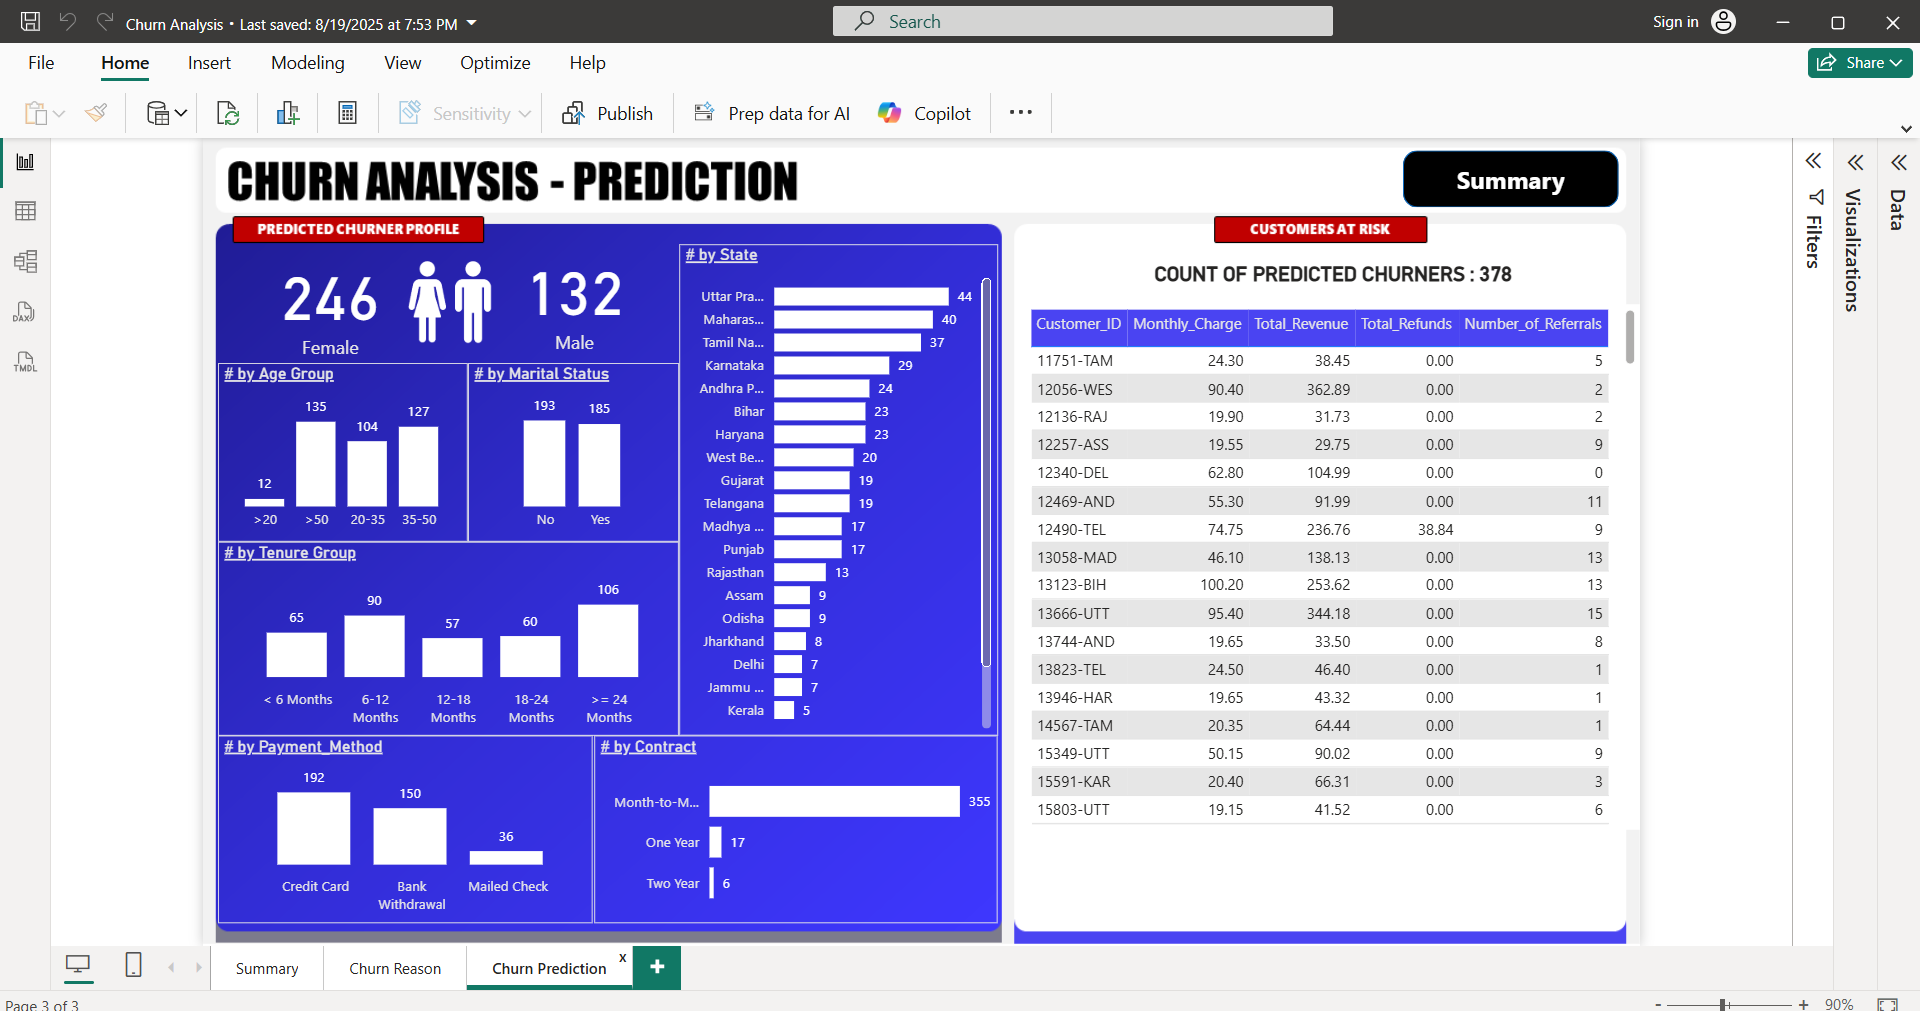

The page's visual inventory and layout, read from the dashboard file:
{"tool":"powerbi","page":{"name":"Churn Prediction","canvas":[1280,720],"ordinal":2},"visuals":[{"type":"tableEx","fields":{"Values":["Predictions.Customer_ID","Predictions.Monthly_Charge","Predictions.Total_Revenue","Predictions.Total_Refunds","Predictions.Number_of_Referrals"]},"box":[731.4,148.2,548.9,467.9],"z":0},{"type":"card","fields":{"Values":["tbl_Measures.Title Predicted Churners"]},"box":[830.2,94.7,352.7,53.5],"z":1000},{"type":"card","fields":{"Values":["tbl_Measures.Count Predicted Churner"]},"box":[45.3,94.7,135.8,105.7],"z":2000},{"type":"card","fields":{"Values":["tbl_Measures.Count Predicted Churner"]},"box":[258,90.6,145.5,105.7],"z":3000},{"type":"clusteredColumnChart","fields":{"Category":["mapping_AgeGrp.Age Group"],"Y":["CountNonNull(Predictions.Customer_ID)"]},"box":[13.7,200.3,222.3,159.2],"z":4000},{"type":"clusteredColumnChart","fields":{"Category":["Predictions.Married"],"Y":["CountNonNull(Predictions.Customer_ID)"]},"box":[236,200.3,188,159.2],"z":5000},{"type":"clusteredColumnChart","fields":{"Category":["mapping_TenureGrp.Tenure Group"],"Y":["CountNonNull(Predictions.Customer_ID)"]},"box":[13.7,359.5,410.3,172.9],"z":6000},{"type":"clusteredColumnChart","fields":{"Category":["Predictions.Payment_Method"],"Y":["CountNonNull(Predictions.Customer_ID)"]},"box":[13.7,532.4,333.4,167.4],"z":7000},{"type":"clusteredBarChart","fields":{"Category":["Predictions.Contract"],"Y":["CountNonNull(Predictions.Customer_ID)"]},"box":[348.5,532.4,359.5,167.4],"z":8000},{"type":"clusteredBarChart","fields":{"Category":["Predictions.State"],"Y":["CountNonNull(Predictions.Customer_ID)"]},"box":[424,94.7,284,437.7],"z":9000},{"type":"image","box":[168.1,94.7,102.9,101.5],"z":9001},{"type":"shape","box":[1069,11,192.1,50.8],"z":9002}]}

Visuals, with their boxes on the page's 1280x720 design canvas (x1, y1, x2, y2). These are canvas units, not pixel positions in the 1920x1011 screenshot, which may show the page scaled, cropped or inside an application window:
tableEx - Predictions.Customer_ID x Predictions.Monthly_Charge: (x1=731, y1=148, x2=1280, y2=616)
card - tbl_Measures.Title Predicted Churners: (x1=830, y1=95, x2=1183, y2=148)
card - tbl_Measures.Count Predicted Churner: (x1=45, y1=95, x2=181, y2=200)
card - tbl_Measures.Count Predicted Churner: (x1=258, y1=91, x2=404, y2=196)
clusteredColumnChart - mapping_AgeGrp.Age Group x CountNonNull(Predictions.Customer_ID): (x1=14, y1=200, x2=236, y2=360)
clusteredColumnChart - Predictions.Married x CountNonNull(Predictions.Customer_ID): (x1=236, y1=200, x2=424, y2=360)
clusteredColumnChart - mapping_TenureGrp.Tenure Group x CountNonNull(Predictions.Customer_ID): (x1=14, y1=360, x2=424, y2=532)
clusteredColumnChart - Predictions.Payment_Method x CountNonNull(Predictions.Customer_ID): (x1=14, y1=532, x2=347, y2=700)
clusteredBarChart - Predictions.Contract x CountNonNull(Predictions.Customer_ID): (x1=348, y1=532, x2=708, y2=700)
clusteredBarChart - Predictions.State x CountNonNull(Predictions.Customer_ID): (x1=424, y1=95, x2=708, y2=532)
image: (x1=168, y1=95, x2=271, y2=196)
shape: (x1=1069, y1=11, x2=1261, y2=62)
